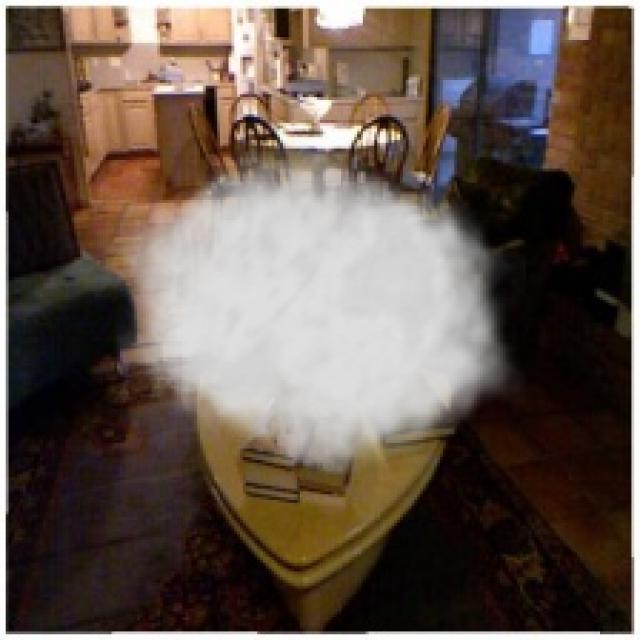Smoke: (114, 131, 526, 480)
